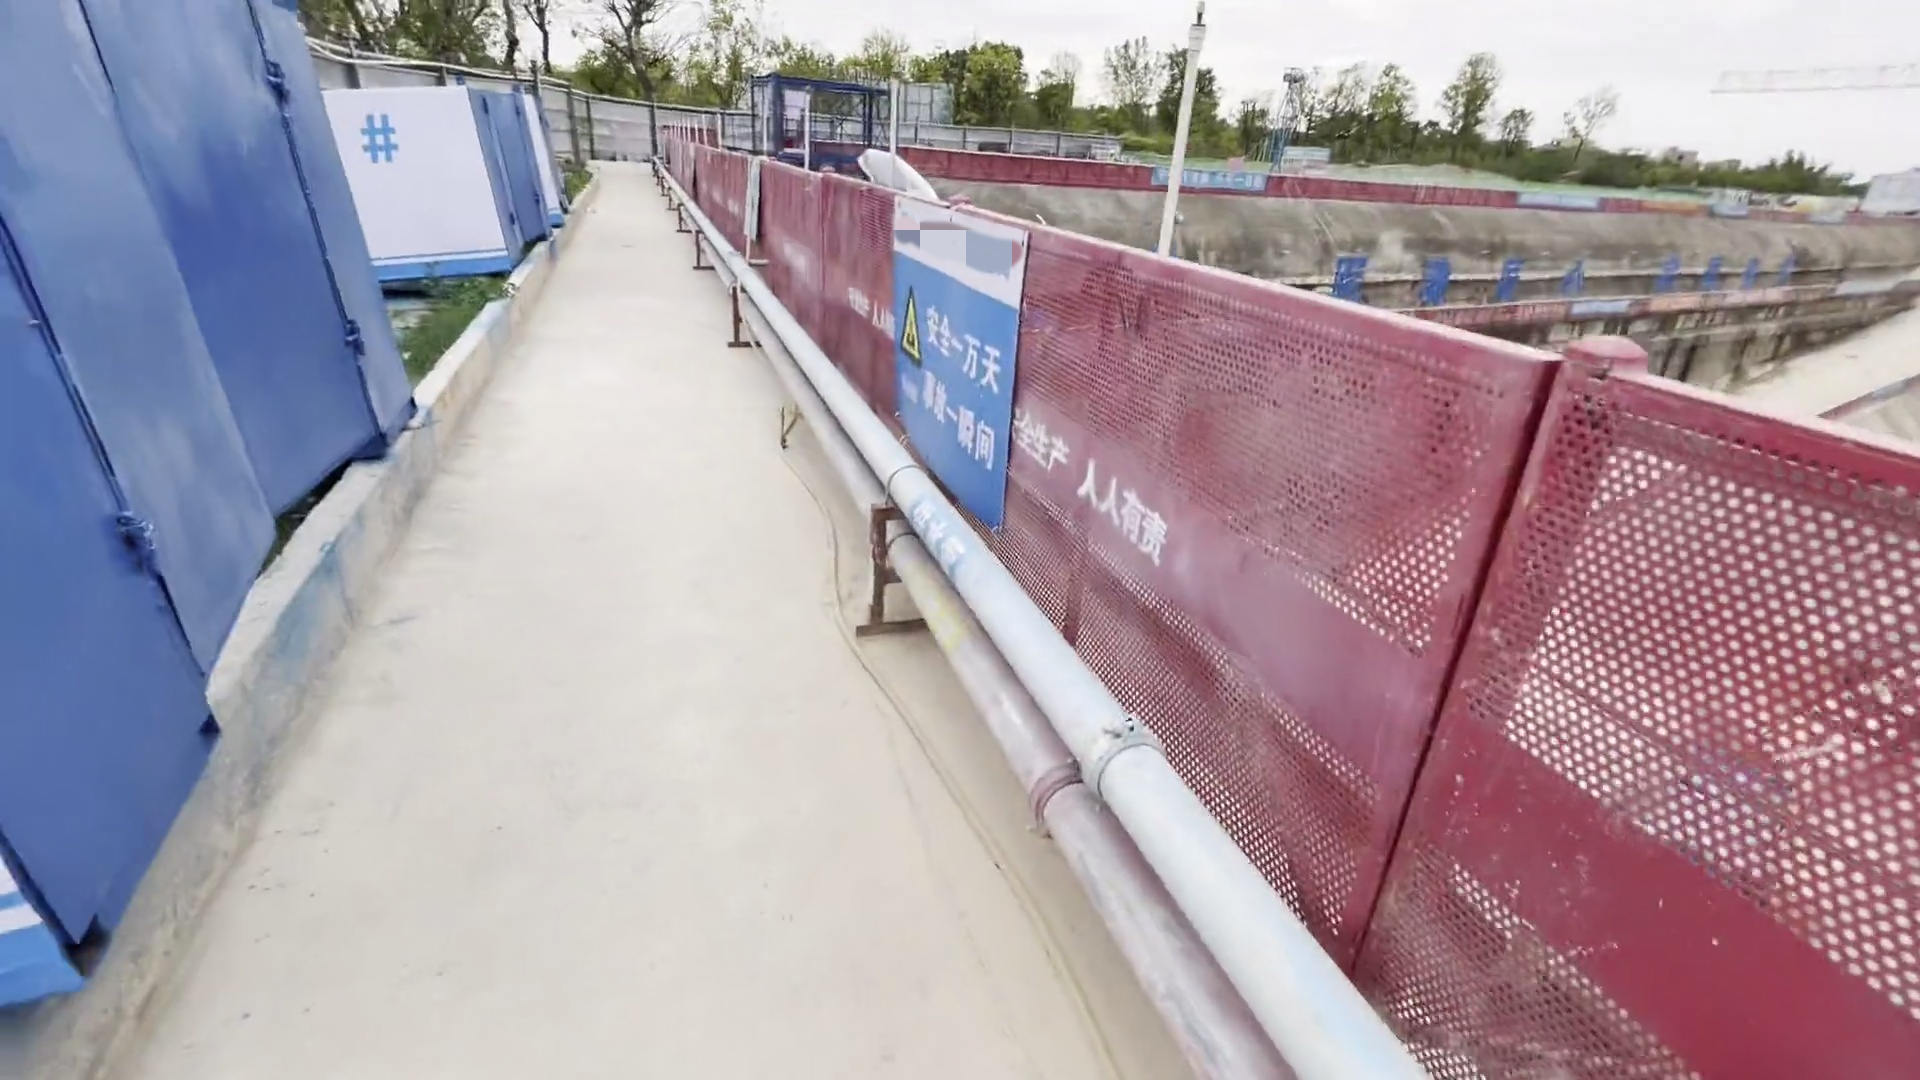fence: (719, 224, 1904, 1067)
